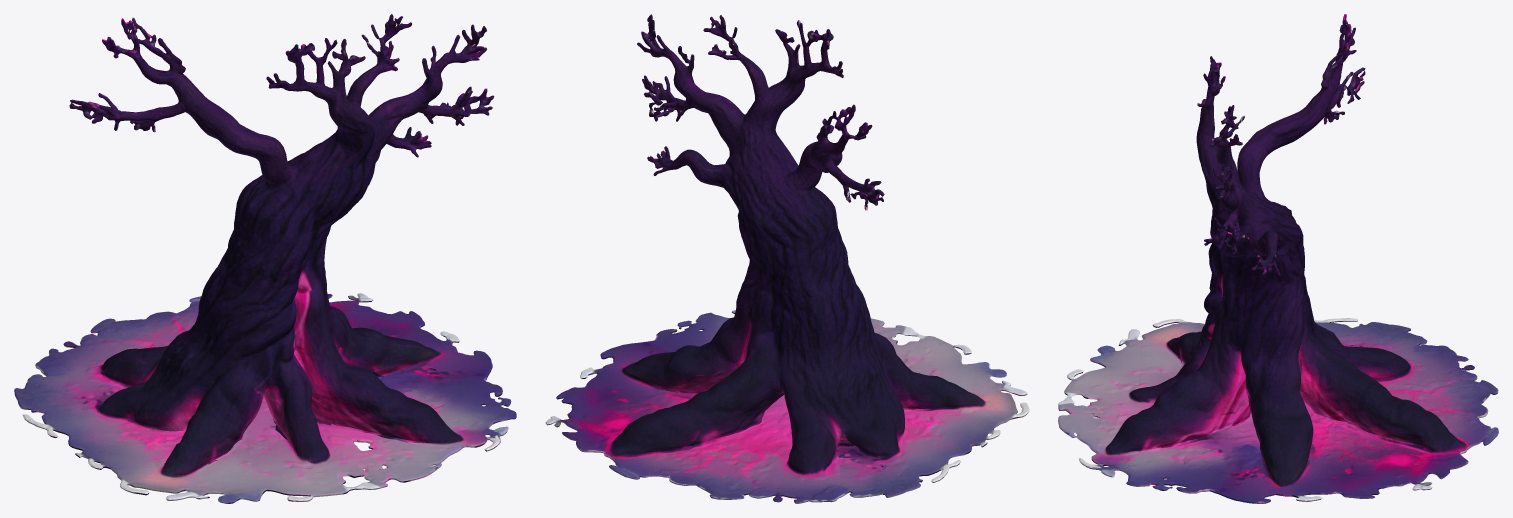
File: sea-root-sw-generated-2026-05-17T19-49-55-517Z.glb
The picture shows the model from 3 angles, left to right: view 1: azimuth 30°, elevation 25°; view 2: azimuth 150°, elevation 25°; view 3: azimuth 270°, elevation 25°; orthographic projection. The views are drawn at different scales.
Parts seen in each view (by area): view 1: temp_mesh.ply; view 2: temp_mesh.ply; view 3: temp_mesh.ply.
Part boxes in pixels (x1,y1,x2,y2): temp_mesh.ply: [14, 14, 516, 503]; temp_mesh.ply: [545, 14, 1029, 503]; temp_mesh.ply: [1058, 14, 1498, 503].
Size of the model in its own units: 1.95 by 1.74 by 1.97.
Materials: 1 (1 with a texture image).
